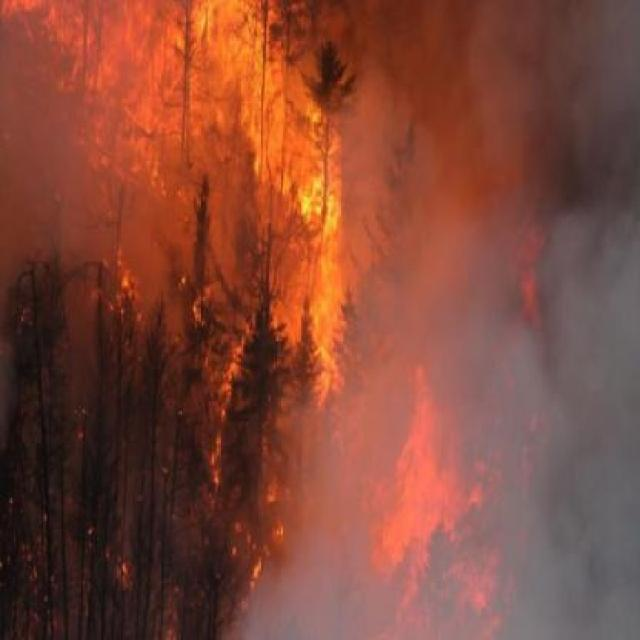Fire: (183, 0, 349, 400), (0, 4, 180, 298), (307, 368, 507, 614), (408, 114, 550, 323), (259, 429, 295, 560)
Smoke: (508, 316, 638, 638), (552, 114, 640, 322)
